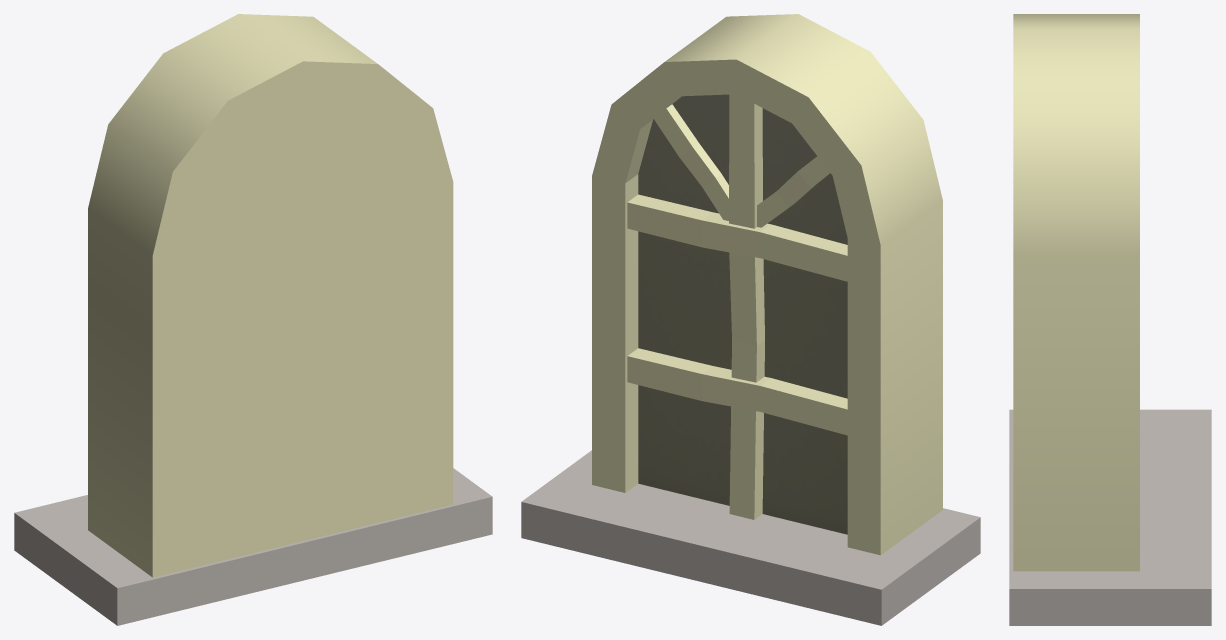
The model's file is Window_A_01.fbx.
The picture shows the model from 3 angles, left to right: view 1: azimuth 30°, elevation 25°; view 2: azimuth 150°, elevation 25°; view 3: azimuth 270°, elevation 25°; orthographic projection. The views are drawn at different scales.
Parts seen in each view (by area): view 1: Window_A_01; view 2: Window_A_01; view 3: Window_A_01.
Boxes of the visible parts, x1,y1,x2,y2 form: Window_A_01: (14, 14, 492, 625); Window_A_01: (521, 14, 980, 625); Window_A_01: (1009, 14, 1211, 625).
Bounding box in the file's own units: 221 × 291 × 105.
